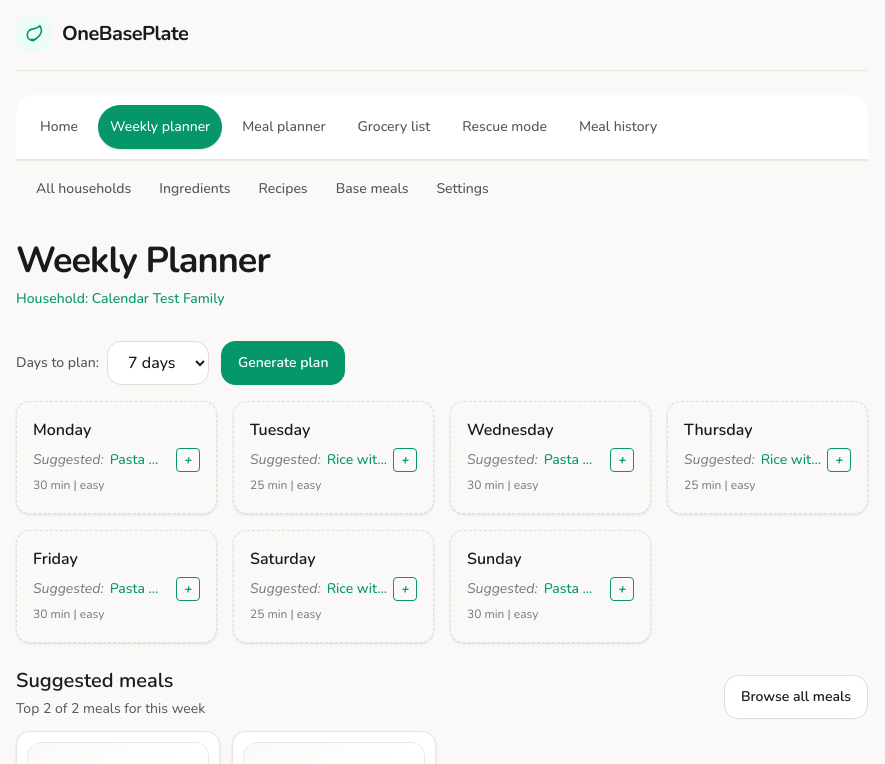
it: F021: Weekly Planner always shows day cards › shows 5 day cards when 5 days selected
The width and height of the screenshot is (885, 764).
Select "5 days" in the dropdown with test id "days-select" at (158, 363), box [107,341,209,385]
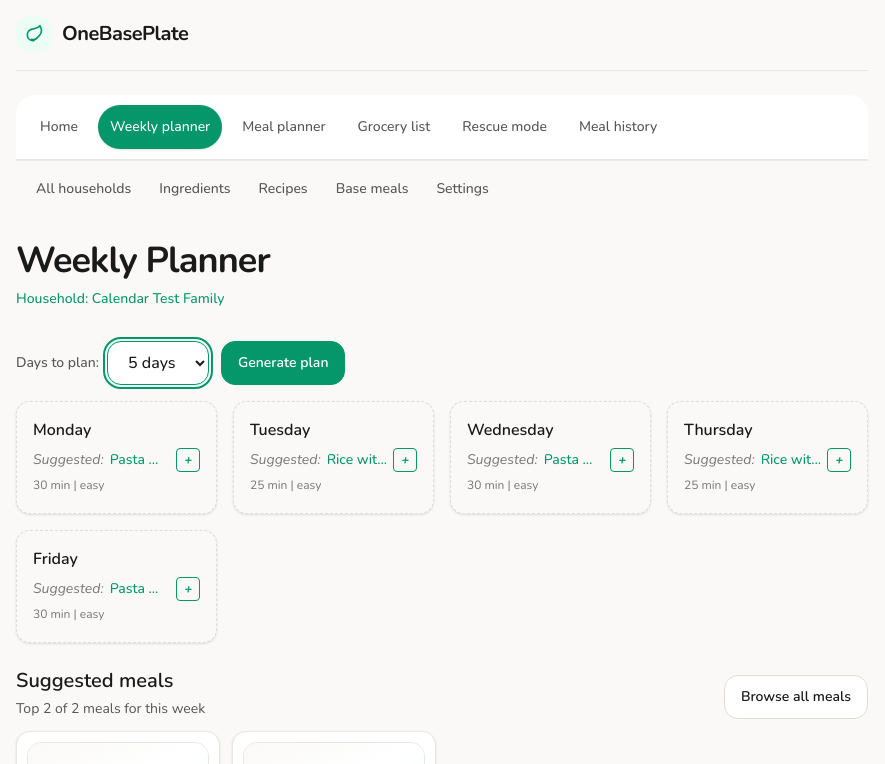
expect the element with test id "day-monday" is shown: met, box [16,401,217,514]
expect the element with test id "day-saturday" is gone: met
